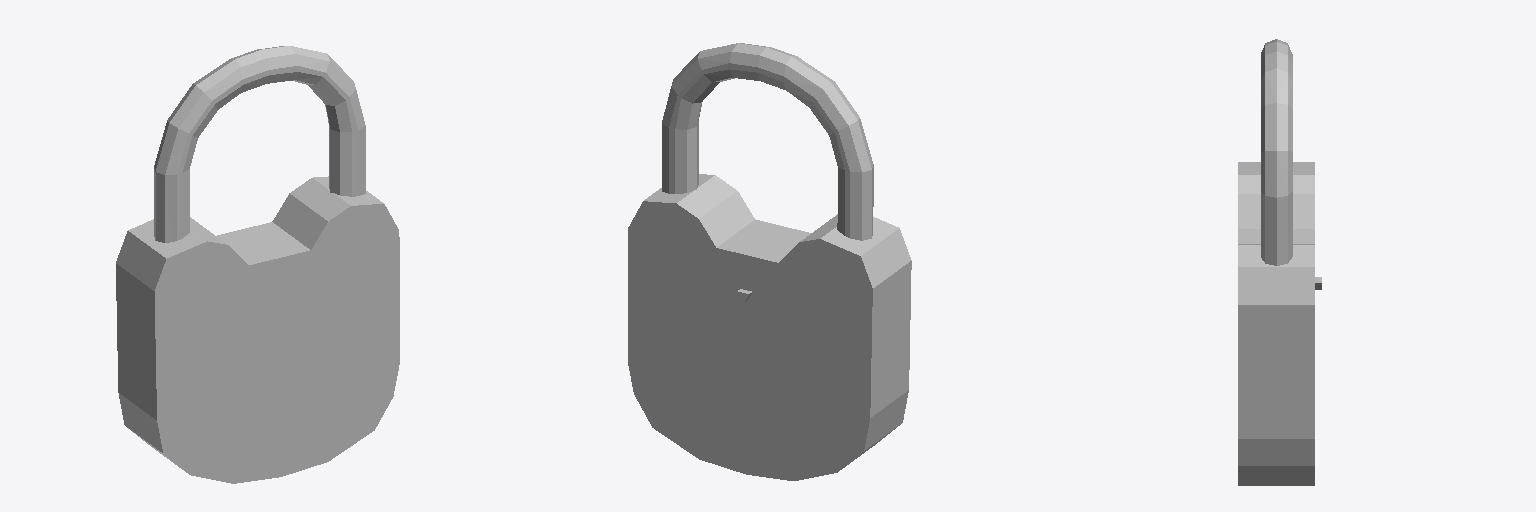
Rendered from padlock_2.obj.
3 renders of one model, left to right at view 1: azimuth 30°, elevation 25°; view 2: azimuth 150°, elevation 25°; view 3: azimuth 270°, elevation 25°, orthographic.
Parts seen in each view (by area): view 1: padlock_2, padlock_2_shackle; view 2: padlock_2, padlock_2_shackle; view 3: padlock_2, padlock_2_shackle.
Part boxes in pixels (bbox=[...]): padlock_2: bbox=[116, 176, 399, 483]; padlock_2_shackle: bbox=[154, 46, 365, 242]; padlock_2: bbox=[628, 174, 911, 480]; padlock_2_shackle: bbox=[662, 43, 873, 240]; padlock_2: bbox=[1238, 162, 1321, 485]; padlock_2_shackle: bbox=[1261, 39, 1292, 265].
Size of the model in its own units: 0.0806 by 0.1299 by 0.0241.